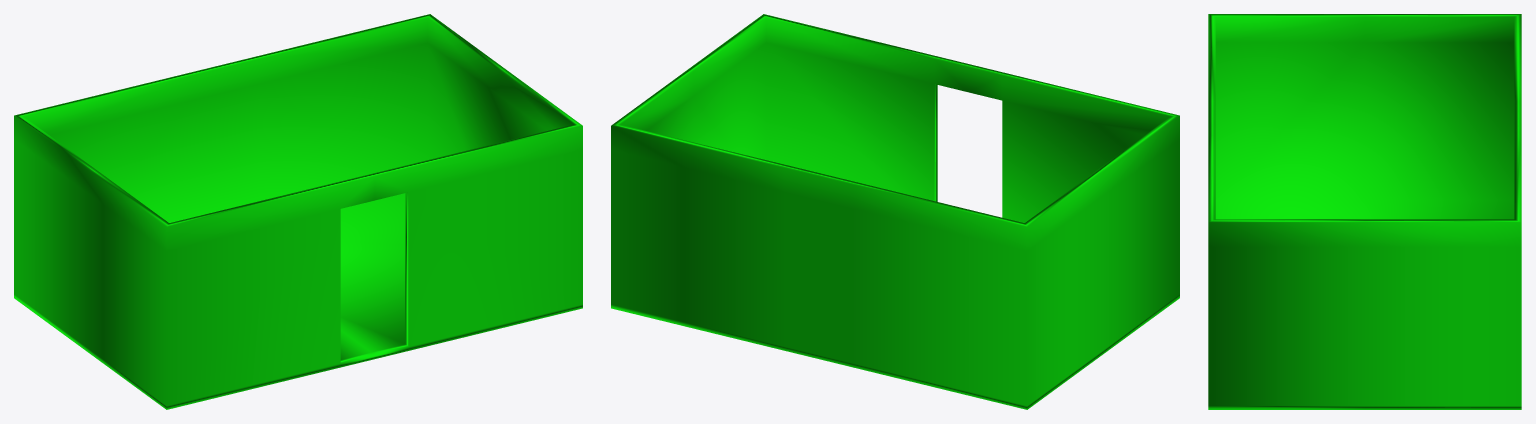
File: mdl_Corredor_Pareded_oficina.fbx
The picture shows the model from 3 angles, left to right: view 1: azimuth 30°, elevation 25°; view 2: azimuth 150°, elevation 25°; view 3: azimuth 270°, elevation 25°; orthographic projection. The views are drawn at different scales.
Visible parts, largest first — view 1: mdl_Corredor_Pareded_oficina; view 2: mdl_Corredor_Pareded_oficina; view 3: mdl_Corredor_Pareded_oficina.
Boxes of the visible parts, box(x1,y1,x2,y2) form: mdl_Corredor_Pareded_oficina: box(14, 14, 582, 409); mdl_Corredor_Pareded_oficina: box(611, 14, 1179, 409); mdl_Corredor_Pareded_oficina: box(1208, 14, 1521, 409).
Size of the model in its own units: 8.67 by 4.59 by 5.51.
